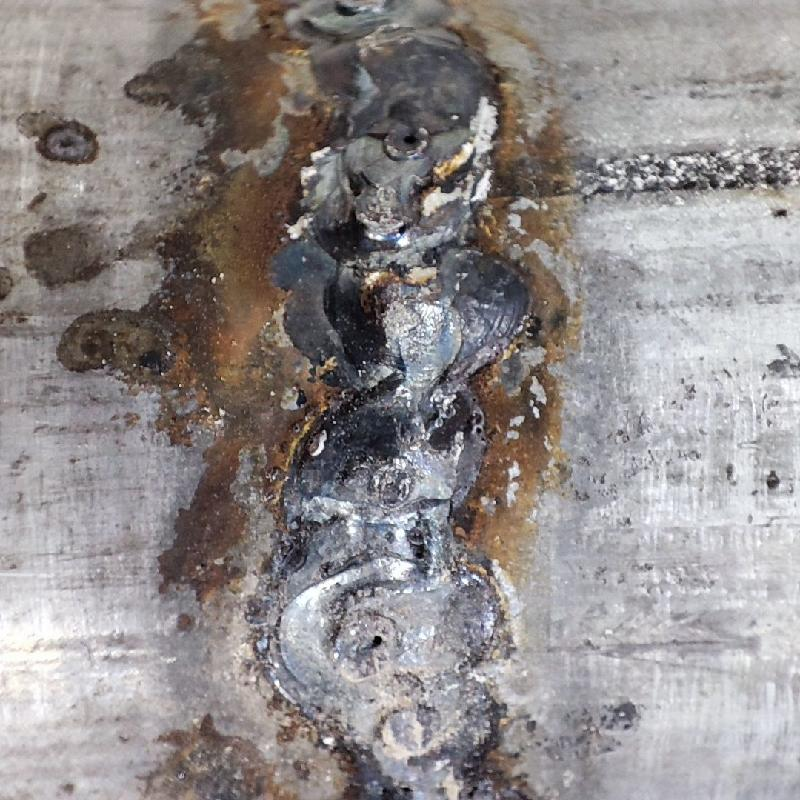Not_fully_soldered: (274, 515, 514, 796)
Surface_pores: (373, 114, 441, 157), (350, 615, 396, 665)
wrong_size: (288, 2, 515, 510)
